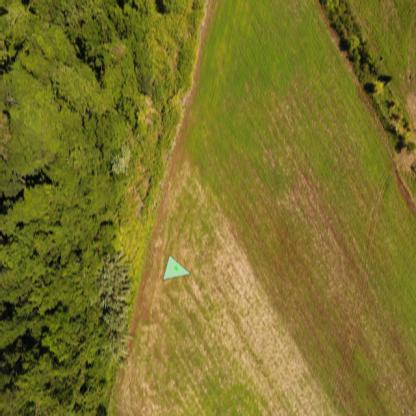4: (173, 263, 181, 273)
triangle: (159, 256, 193, 286)
